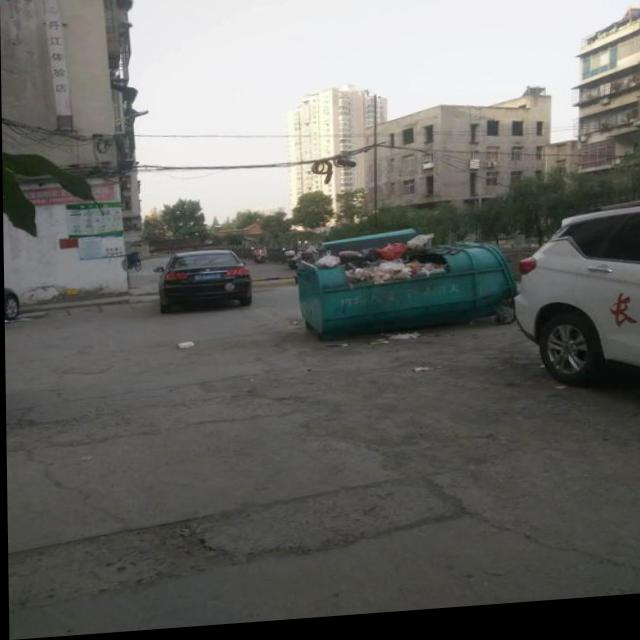overflow: (296, 229, 501, 339)
